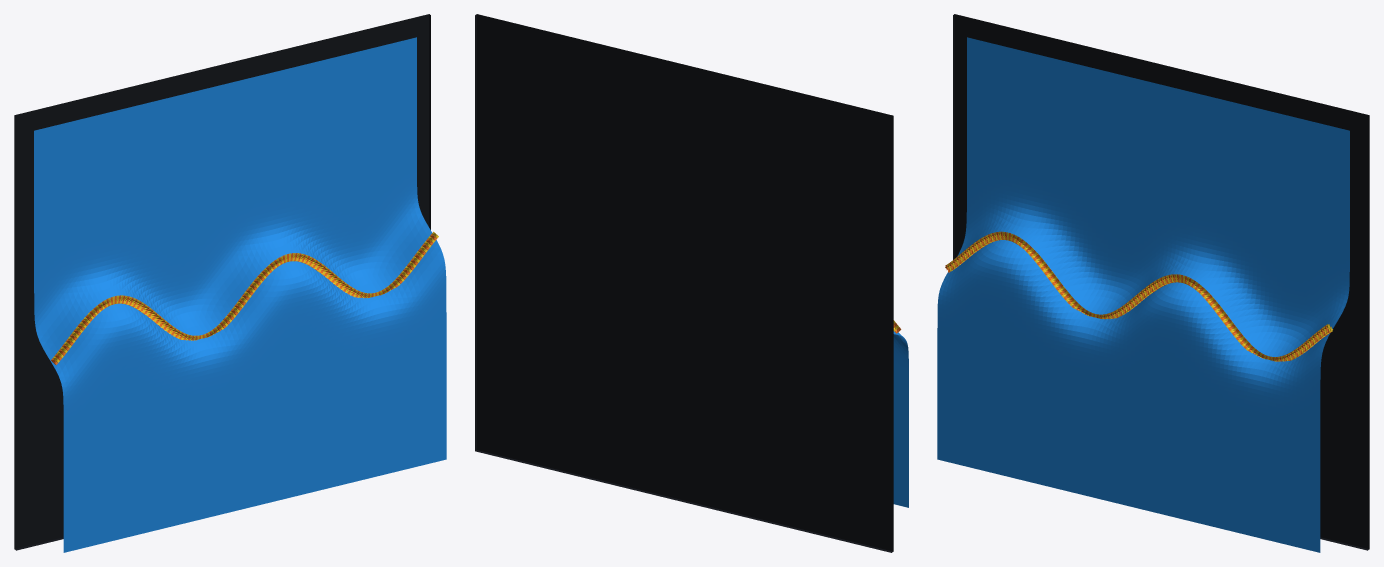
3 views of the same model, side by side, from view 1: azimuth 30°, elevation 25°; view 2: azimuth 150°, elevation 25°; view 3: azimuth 330°, elevation 25° (orthographic).
Visible parts, largest first — view 1: fluid_kh_slice; view 2: fluid_kh_slice; view 3: fluid_kh_slice.
Part boxes in pixels (x1,y1,x2,y2): fluid_kh_slice: (14,14,446,552); fluid_kh_slice: (475,14,908,552); fluid_kh_slice: (937,14,1369,552).
Bounding box in the file's own units: 13 × 13 × 1.8.
